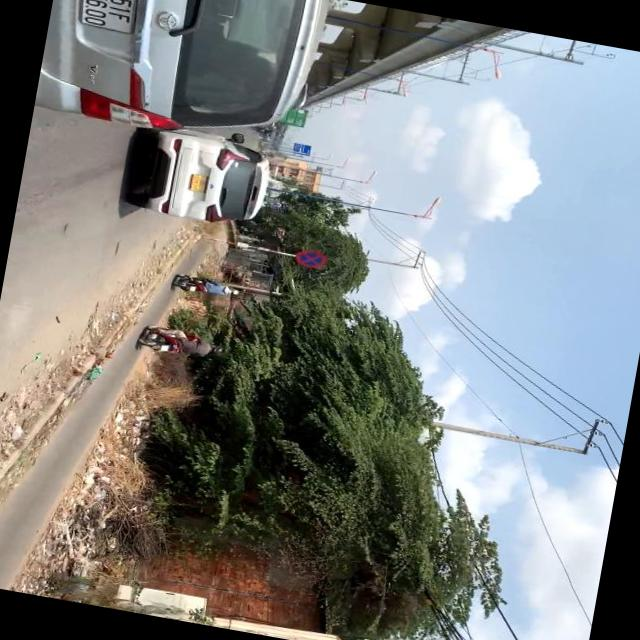P-130: (294, 248, 326, 268)
